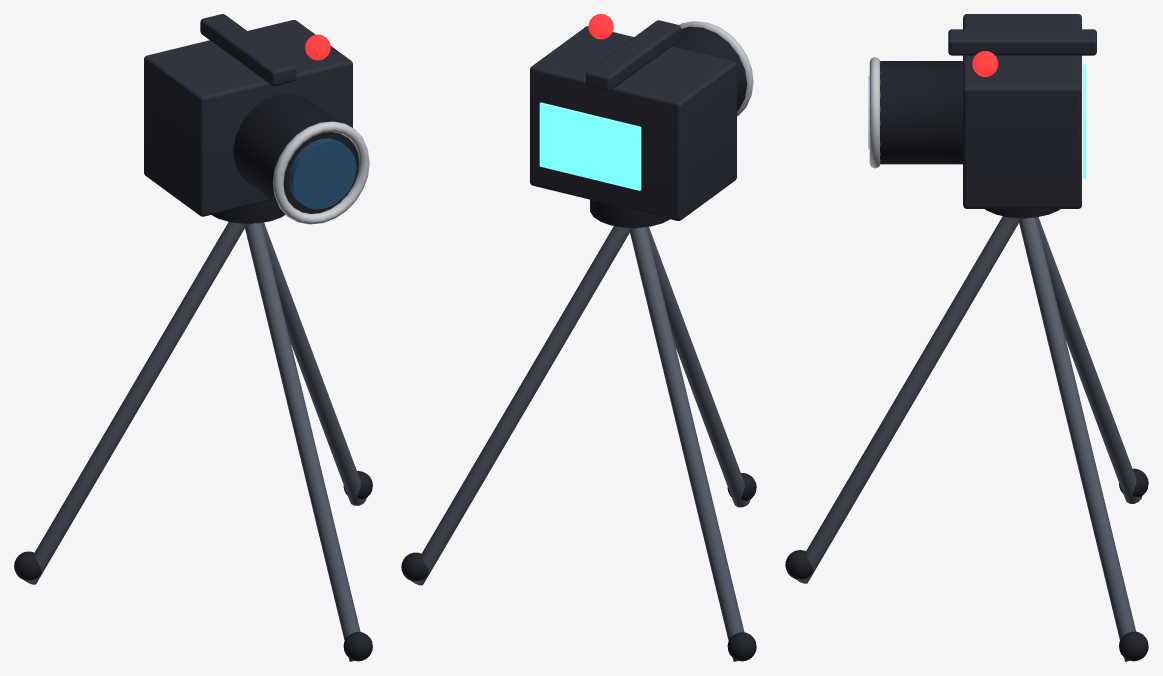
File: camera-tripod.glb
3 renders of one model, left to right at view 1: azimuth 30°, elevation 25°; view 2: azimuth 150°, elevation 25°; view 3: azimuth 270°, elevation 25°, orthographic. The views are drawn at different scales.
Visible parts, largest first — view 1: camera-1-rotor-solid, camera-tripod-solid, camera-1-rotor-glass, camera-1-rotor-metal, camera-1-rotor-glow; view 2: camera-1-rotor-solid, camera-tripod-solid, camera-1-rotor-glow (×2), camera-1-rotor-metal; view 3: camera-1-rotor-solid, camera-tripod-solid, camera-1-rotor-metal, camera-1-rotor-glow.
Boxes of the visible parts, x1,y1,x2,y2 form: camera-1-rotor-solid: (144, 14, 359, 216); camera-tripod-solid: (14, 200, 372, 661); camera-1-rotor-glass: (289, 138, 356, 208); camera-1-rotor-metal: (273, 121, 369, 224); camera-1-rotor-glow: (305, 34, 330, 60); camera-1-rotor-solid: (530, 20, 747, 220); camera-tripod-solid: (401, 199, 756, 661); camera-1-rotor-glow (×2): (539, 14, 641, 190); camera-1-rotor-metal: (679, 21, 753, 116); camera-1-rotor-solid: (880, 14, 1096, 208); camera-tripod-solid: (785, 209, 1148, 661); camera-1-rotor-metal: (869, 57, 880, 168); camera-1-rotor-glow: (972, 51, 998, 76).
Bounding box in the file's own units: 0.4444 × 0.6565 × 0.3892.
